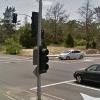traffic lights: (38, 45, 50, 75), (29, 12, 39, 39), (10, 7, 17, 26)
